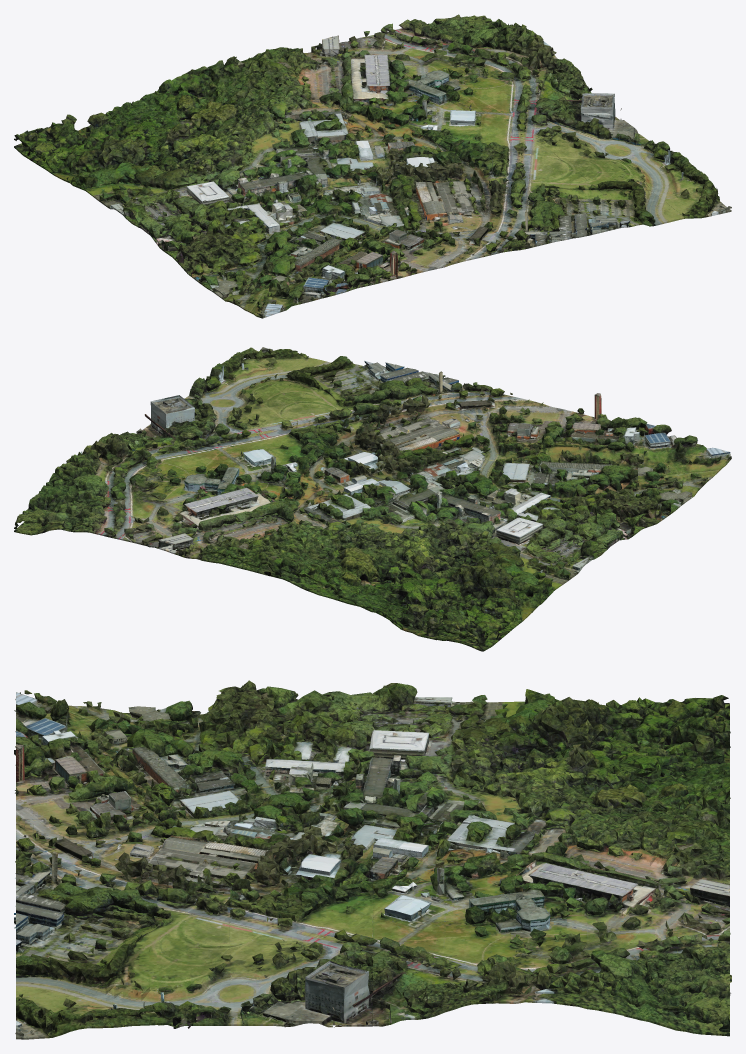
File: IPEN.fbx
3 renders of one model, top to bottom at view 1: azimuth 30°, elevation 25°; view 2: azimuth 150°, elevation 25°; view 3: azimuth 270°, elevation 25°, orthographic. The views are drawn at different scales.
Parts seen in each view (by area): view 1: IPEN; view 2: IPEN; view 3: IPEN.
Part boxes in pixels (<box>): IPEN: <box>14,14,731,318</box>; IPEN: <box>14,347,731,651</box>; IPEN: <box>14,680,731,1039</box>.
Size of the model in its own units: 10905 by 1094 by 10029.
46 materials, 46 textured.
